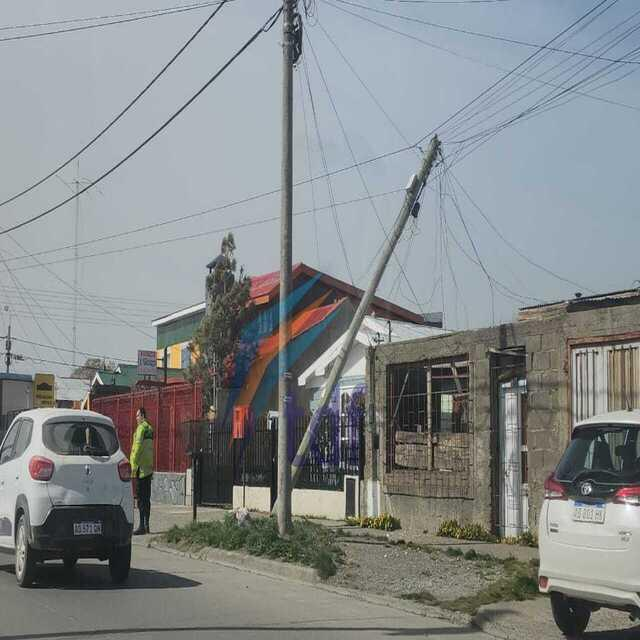Inclined Pole: (267, 133, 447, 522)
